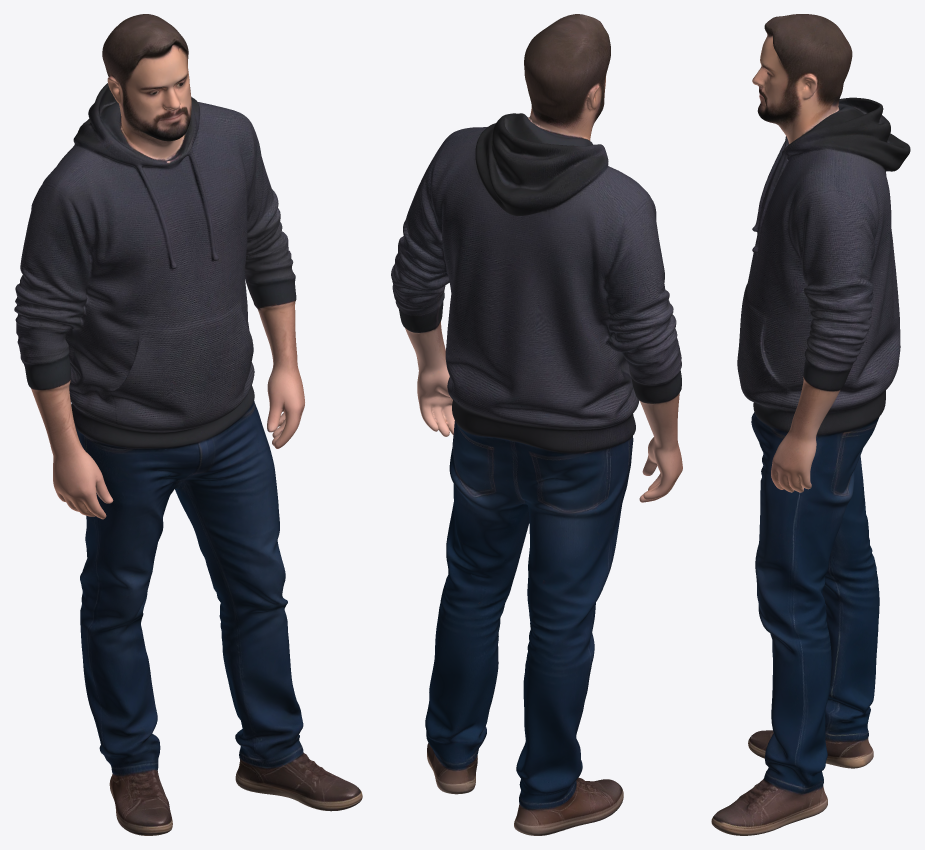
The model's file is Casual_Guy.glb.
The picture shows the model from 3 angles, left to right: view 1: azimuth 30°, elevation 25°; view 2: azimuth 150°, elevation 25°; view 3: azimuth 270°, elevation 25°; orthographic projection. The views are drawn at different scales.
Visible parts, largest first — view 1: mesh_0; view 2: mesh_0; view 3: mesh_0.
Part boxes in pixels (box(x1,y1,x2,y2)): mesh_0: box(14, 14, 362, 835); mesh_0: box(391, 14, 682, 835); mesh_0: box(711, 14, 910, 835).
Bounding box in the file's own units: 0.719 × 1.9 × 0.4605.
Materials: 1 (1 with a texture image).
